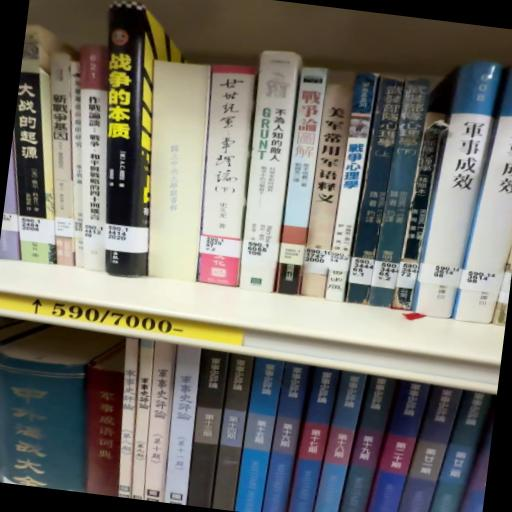backward: (149, 62, 211, 283)
book: (80, 13, 182, 283), (126, 55, 222, 282), (191, 61, 268, 286), (236, 48, 307, 291), (40, 46, 102, 265), (73, 364, 135, 498), (158, 346, 208, 507), (185, 352, 233, 510)
